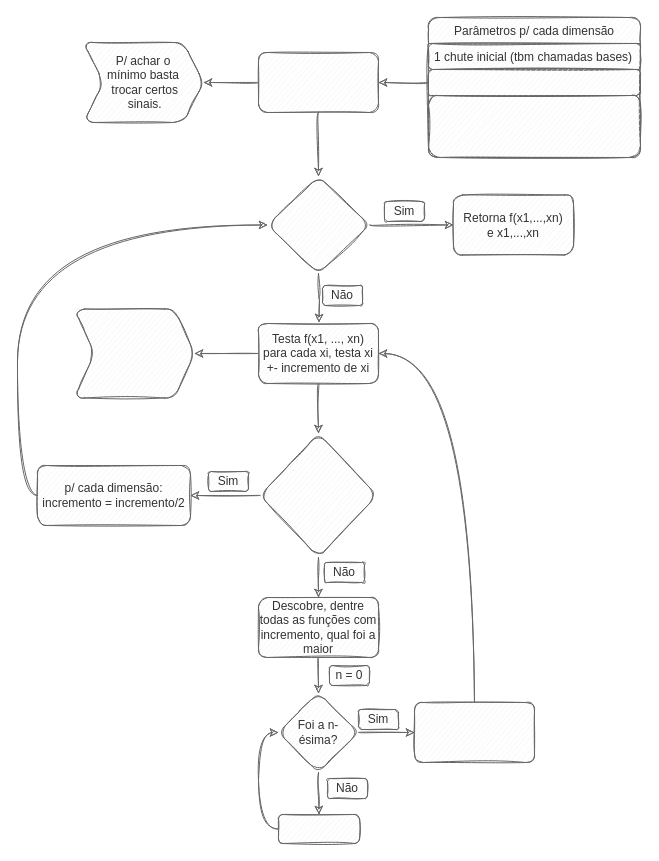
Some shapes in this 659 by 861 pixel diagram are drawn without their labels. The shapes that lost their labels are listed below. From the top down, each one's box as (x1, y1, x2, y2) in pixels, then its label:
(258, 52, 378, 112): Hooke-Jeeves (achar um máximo)
(428, 68, 640, 96): 1 incremento
(428, 94, 640, 158): 1 tolerância 1 limite inferior e um superior
(266, 176, 370, 274): Incremento > Tolerância/2?
(74, 308, 194, 398): Ex: f(x1, x2) f(x1+i1, x2) f(x1-i1, x2) f(x1, x2+i2) f(x1, x2-i2)
(259, 432, 377, 558): f(x1,...xn) > que todas as outras com incrementos?
(414, 702, 534, 762): os parâmetros dessa função com incrementos serão a nova base
(278, 814, 360, 844): n = n + 1
